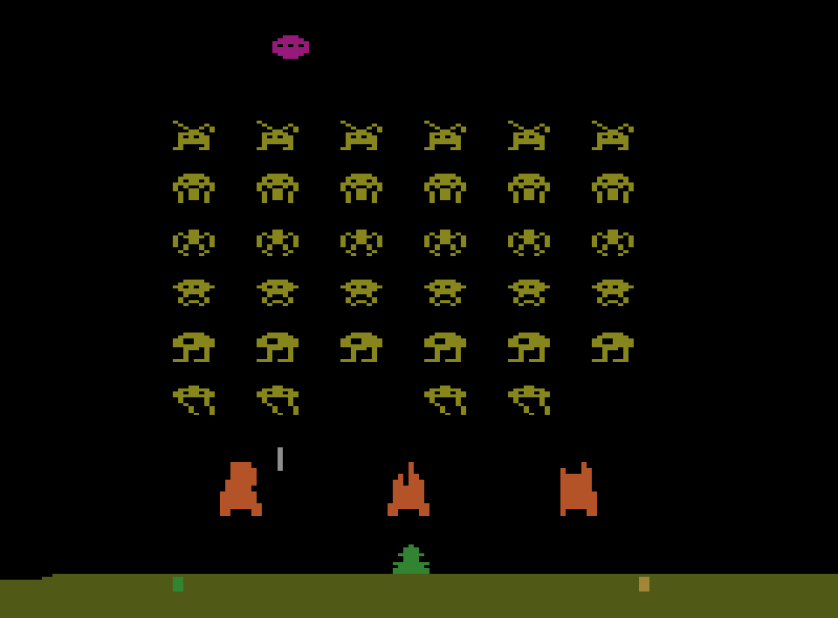bonus: (270, 34, 311, 60)
bullet: (275, 446, 285, 472)
invader1: (172, 119, 216, 152), (255, 120, 300, 152), (507, 120, 552, 152), (424, 119, 467, 152), (340, 119, 384, 151), (590, 120, 635, 151)
invader2: (339, 171, 384, 204), (423, 172, 468, 204), (506, 172, 551, 204), (257, 172, 300, 205), (172, 172, 216, 204), (591, 172, 634, 204)
invader3: (423, 227, 467, 257), (172, 228, 216, 257), (256, 228, 300, 257), (507, 228, 551, 257), (590, 228, 634, 257), (339, 229, 384, 257)
invader4: (507, 278, 551, 307), (171, 279, 216, 307), (424, 278, 467, 307), (257, 278, 299, 307), (341, 278, 383, 307), (591, 279, 634, 307)
invader5: (170, 330, 216, 364), (422, 330, 467, 364), (339, 331, 384, 365), (506, 330, 552, 363), (590, 330, 635, 363), (255, 331, 300, 363)
invader6: (256, 384, 301, 416), (507, 384, 552, 416), (172, 384, 216, 416), (424, 384, 467, 416)
player: (391, 542, 431, 574)
